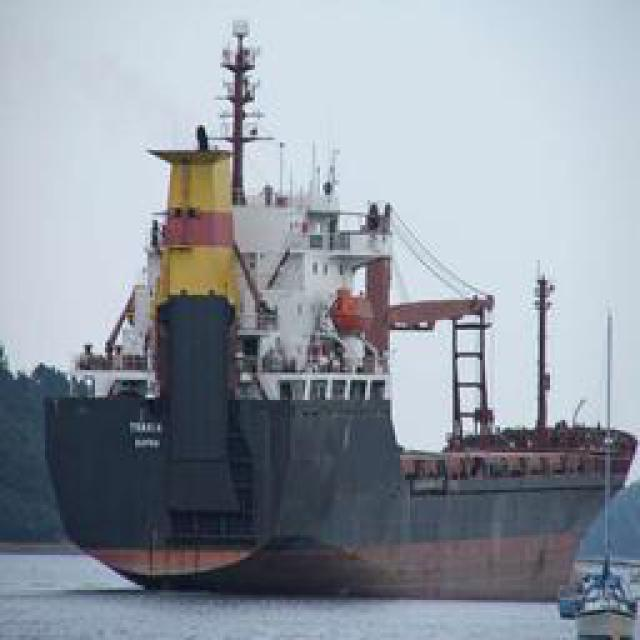Ship: (41, 79, 638, 604)
